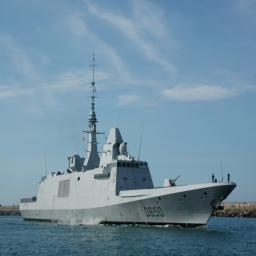Fragata: (16, 47, 239, 233)
